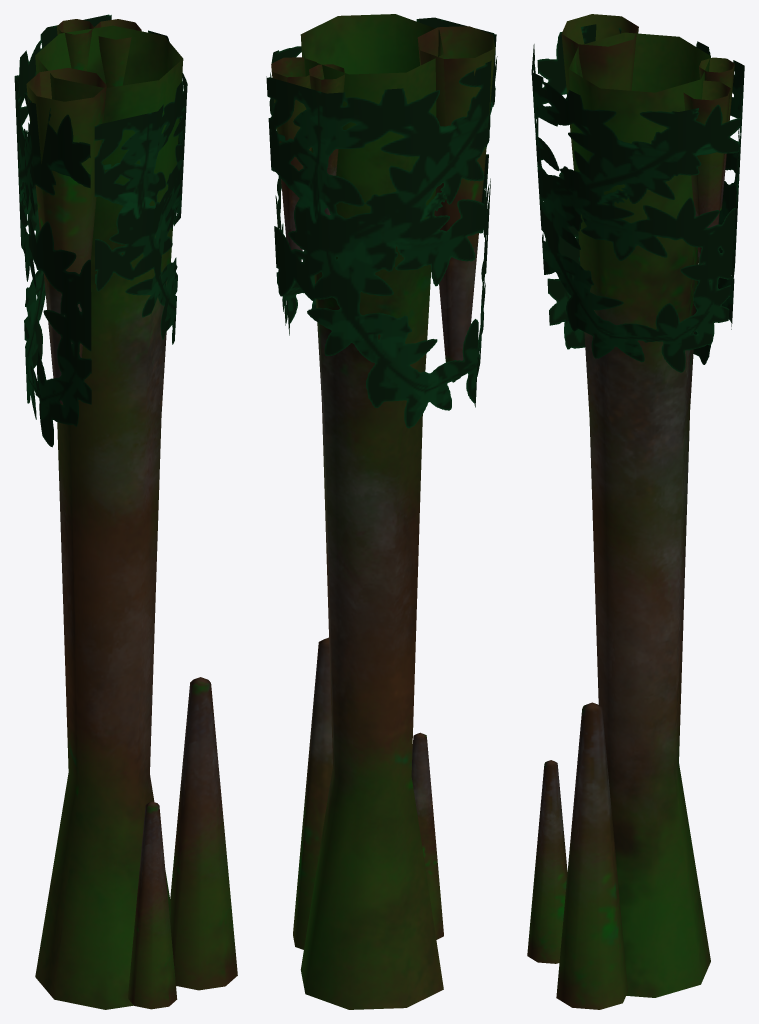
File: Spring_Pillar.fbx
3 views of the same model, side by side, from view 1: azimuth 30°, elevation 25°; view 2: azimuth 150°, elevation 25°; view 3: azimuth 270°, elevation 25° (orthographic). The views are drawn at different scales.
Visible parts, largest first — view 1: Spring_Pillar1; view 2: Spring_Pillar1; view 3: Spring_Pillar1.
Part boxes in pixels (x1,y1,x2,y2): Spring_Pillar1: [14, 14, 237, 1009]; Spring_Pillar1: [266, 14, 497, 1009]; Spring_Pillar1: [527, 14, 744, 1009].
Bounding box in the file's own units: 259 × 1169 × 254.
Materials: 2 (2 with a texture image).
